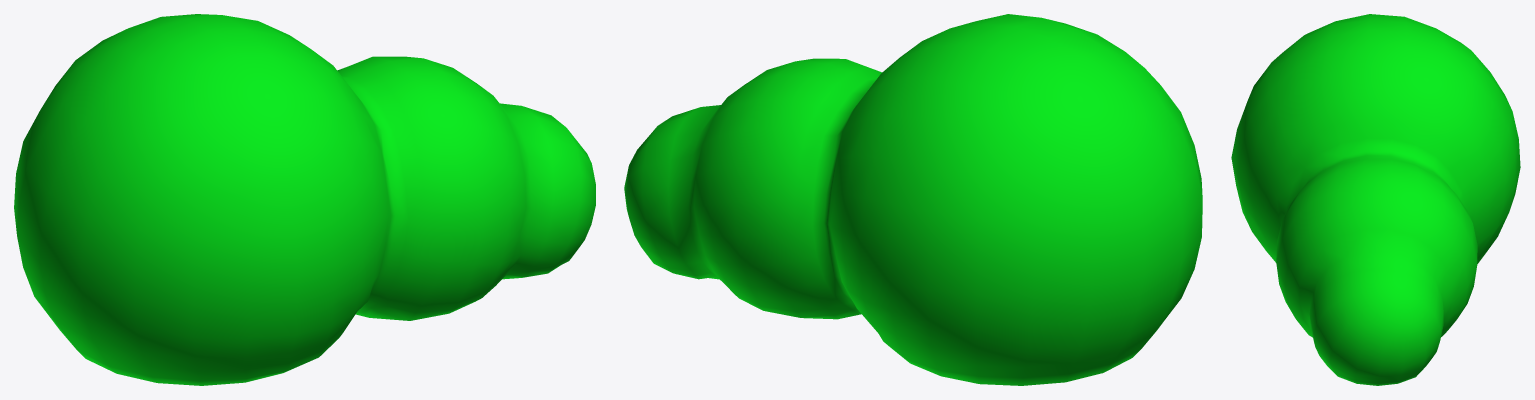
File: Arbusto01.fbx
The picture shows the model from 3 angles, left to right: view 1: azimuth 30°, elevation 25°; view 2: azimuth 150°, elevation 25°; view 3: azimuth 270°, elevation 25°; orthographic projection. The views are drawn at different scales.
Parts seen in each view (by area): view 1: Arbusto01; view 2: Arbusto01; view 3: Arbusto01.
Part boxes in pixels (x1,y1,x2,y2): Arbusto01: (14, 14, 595, 385); Arbusto01: (624, 14, 1202, 385); Arbusto01: (1231, 14, 1520, 385).
Bounding box in the file's own units: 324 × 172 × 196.
